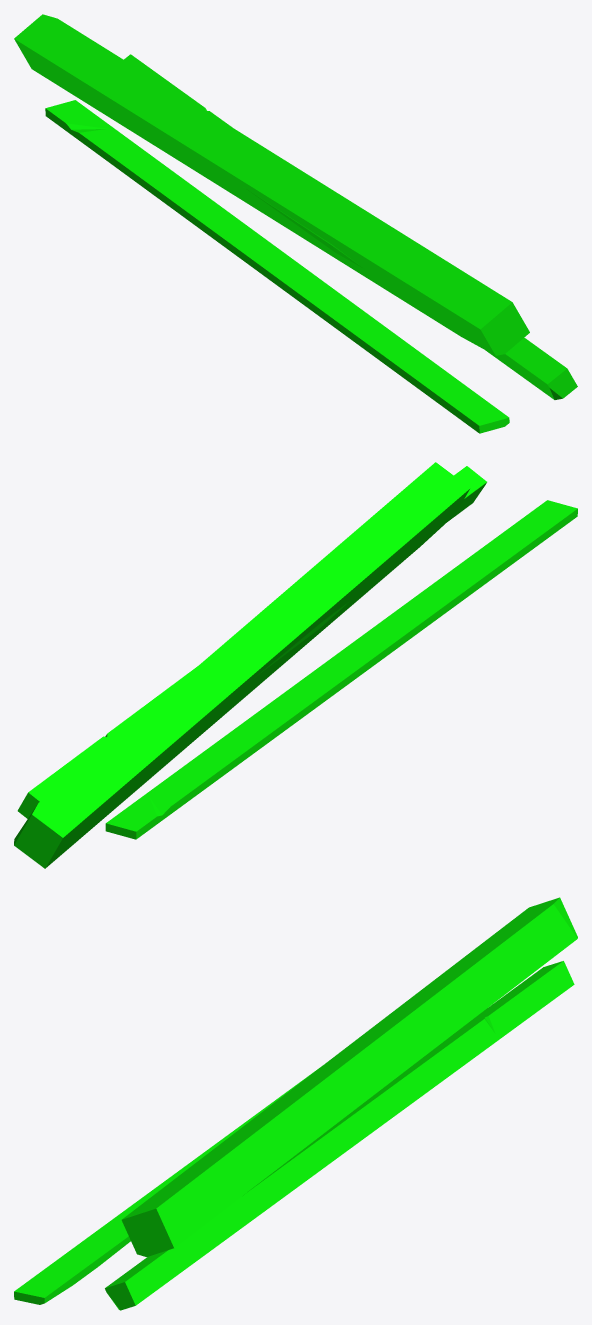
File: SM_Bar_Metal_Pile.fbx
The picture shows the model from 3 angles, top to bottom: view 1: azimuth 30°, elevation 25°; view 2: azimuth 150°, elevation 25°; view 3: azimuth 330°, elevation 25°; orthographic projection.
Visible parts, largest first — view 1: bar-metal-pile; view 2: bar-metal-pile; view 3: bar-metal-pile.
Boxes of the visible parts, x1,y1,x2,y2 form: bar-metal-pile: [14, 14, 577, 433]; bar-metal-pile: [14, 462, 577, 868]; bar-metal-pile: [14, 897, 577, 1310].
Bounding box in the file's own units: 0.1452 × 0.0922 × 1.12.
